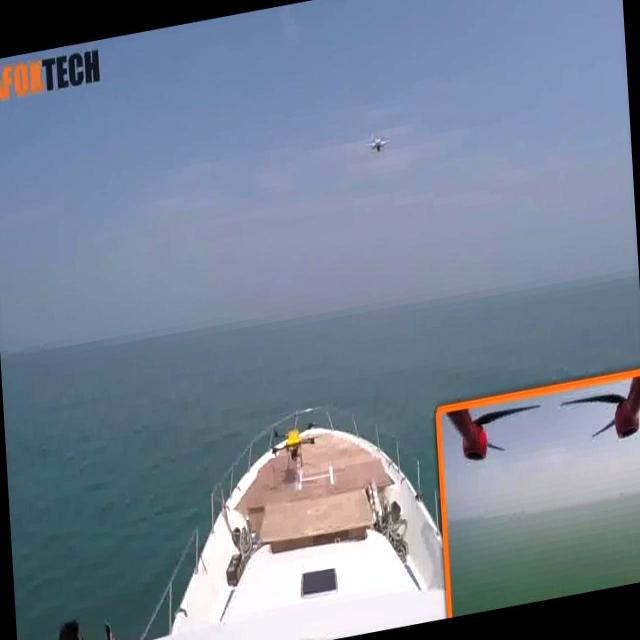drone: (367, 128, 389, 157)
